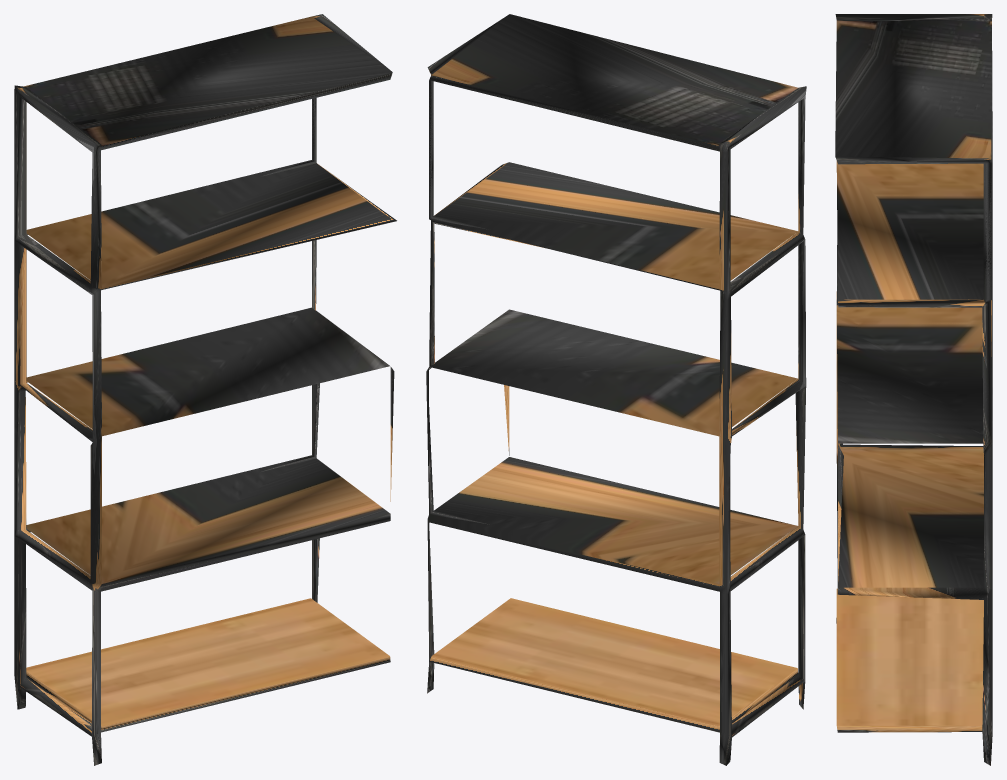
File: steel_frame_shelves_01_lod1.glb
3 views of the same model, side by side, from view 1: azimuth 30°, elevation 25°; view 2: azimuth 150°, elevation 25°; view 3: azimuth 270°, elevation 25° (orthographic). The views are drawn at different scales.
Parts seen in each view (by area): view 1: steel_frame_shelves_01; view 2: steel_frame_shelves_01; view 3: steel_frame_shelves_01.
Part boxes in pixels (x1,y1,x2,y2): steel_frame_shelves_01: [14, 14, 396, 765]; steel_frame_shelves_01: [426, 14, 806, 765]; steel_frame_shelves_01: [835, 14, 992, 765].
Bounding box in the file's own units: 10.96 × 21.41 × 5.02.
1 material, 1 textured.
